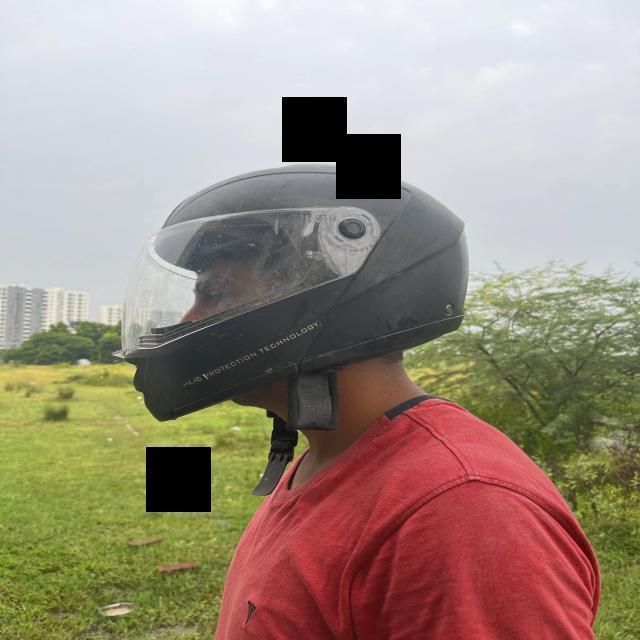helmet: (130, 158, 466, 434)
